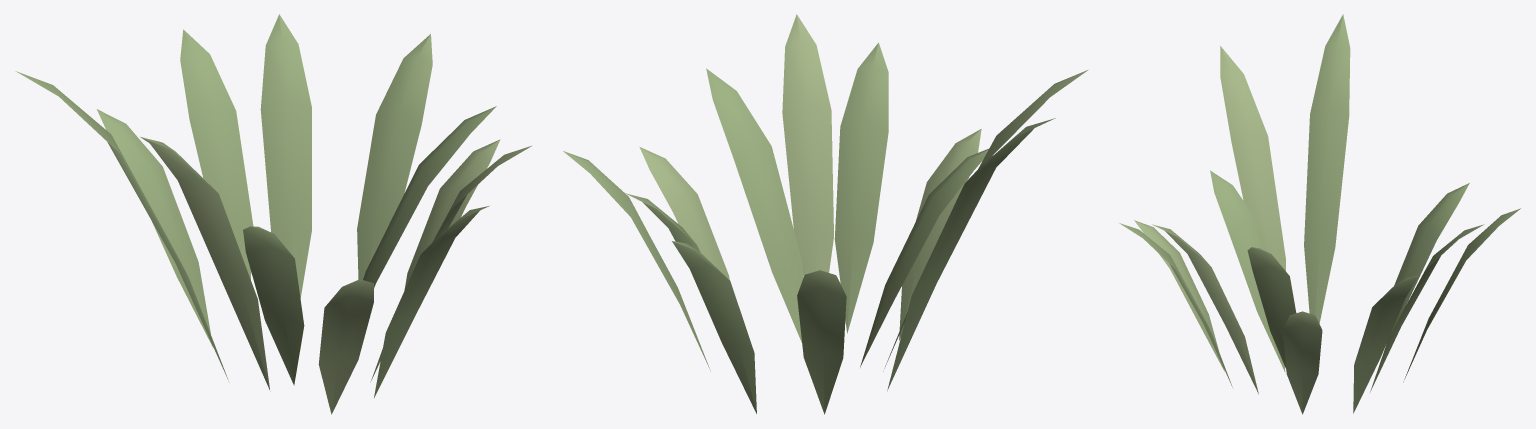
File: SM_Grass_1.fbx
3 renders of one model, left to right at view 1: azimuth 30°, elevation 25°; view 2: azimuth 150°, elevation 25°; view 3: azimuth 270°, elevation 25°, orthographic. The views are drawn at different scales.
Visible parts, largest first — view 1: SM_Grass_1; view 2: SM_Grass_1; view 3: SM_Grass_1.
Part boxes in pixels (x1,y1,x2,y2): SM_Grass_1: [15, 14, 532, 414]; SM_Grass_1: [563, 14, 1087, 414]; SM_Grass_1: [1119, 14, 1520, 414].
Bounding box in the file's own units: 93.83 × 91.32 × 66.89.
